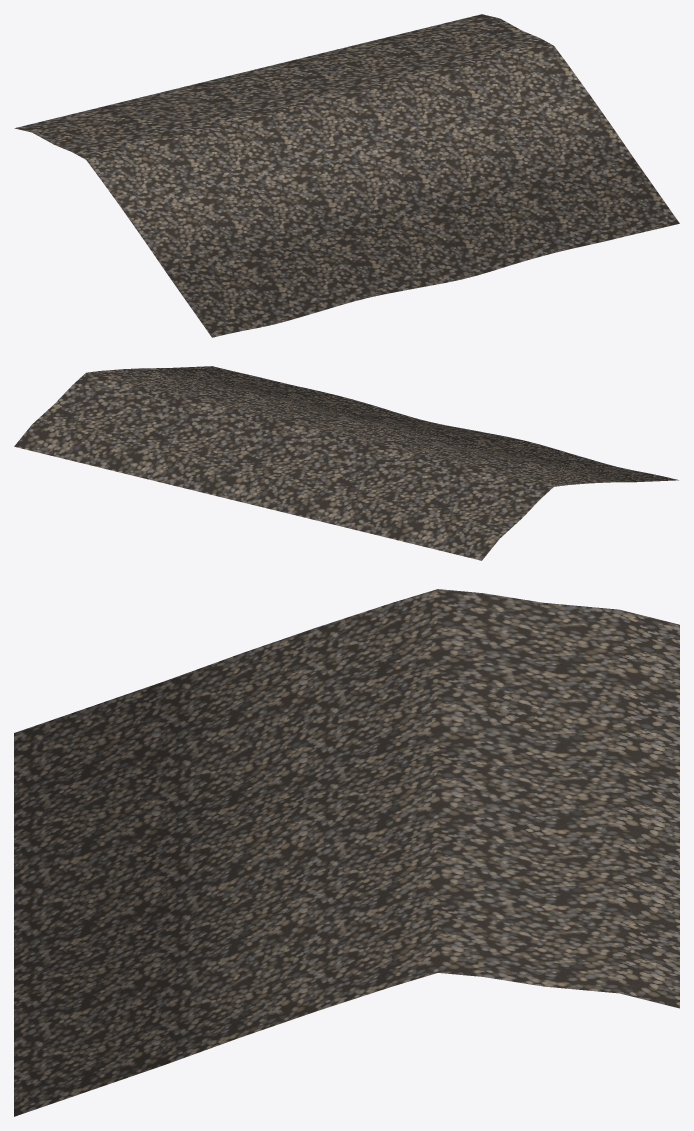
The model's file is beach_shingle_straight6_v5_autumn.glb.
The picture shows the model from 3 angles, top to bottom: view 1: azimuth 30°, elevation 25°; view 2: azimuth 150°, elevation 25°; view 3: azimuth 270°, elevation 25°; orthographic projection. The views are drawn at different scales.
Visible parts, largest first — view 1: beach_shingle_straight6; view 2: beach_shingle_straight6; view 3: beach_shingle_straight6.
Part boxes in pixels (bbox=[...]): beach_shingle_straight6: bbox=[14, 14, 679, 337]; beach_shingle_straight6: bbox=[14, 366, 678, 560]; beach_shingle_straight6: bbox=[14, 589, 679, 1116].
Size of the model in its own units: 6 by 1.09 by 4.4.
1 material, 1 textured.
